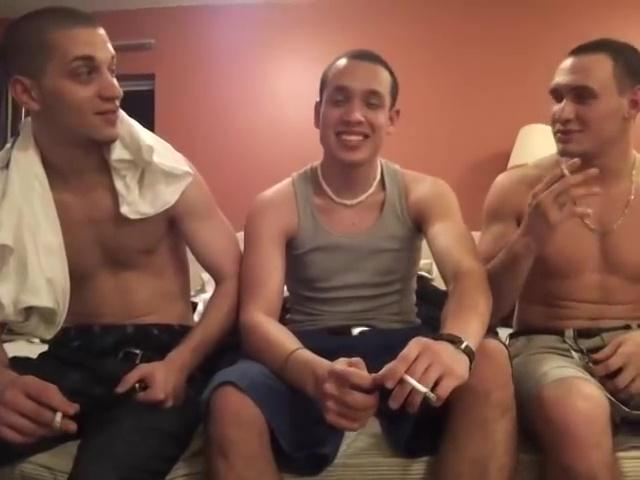cigarette: (400, 373, 441, 401), (49, 408, 64, 431), (555, 161, 575, 178)
